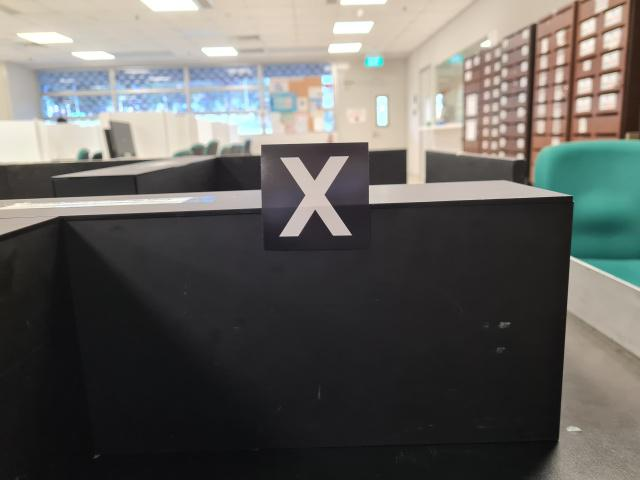x: (259, 142, 372, 251)
